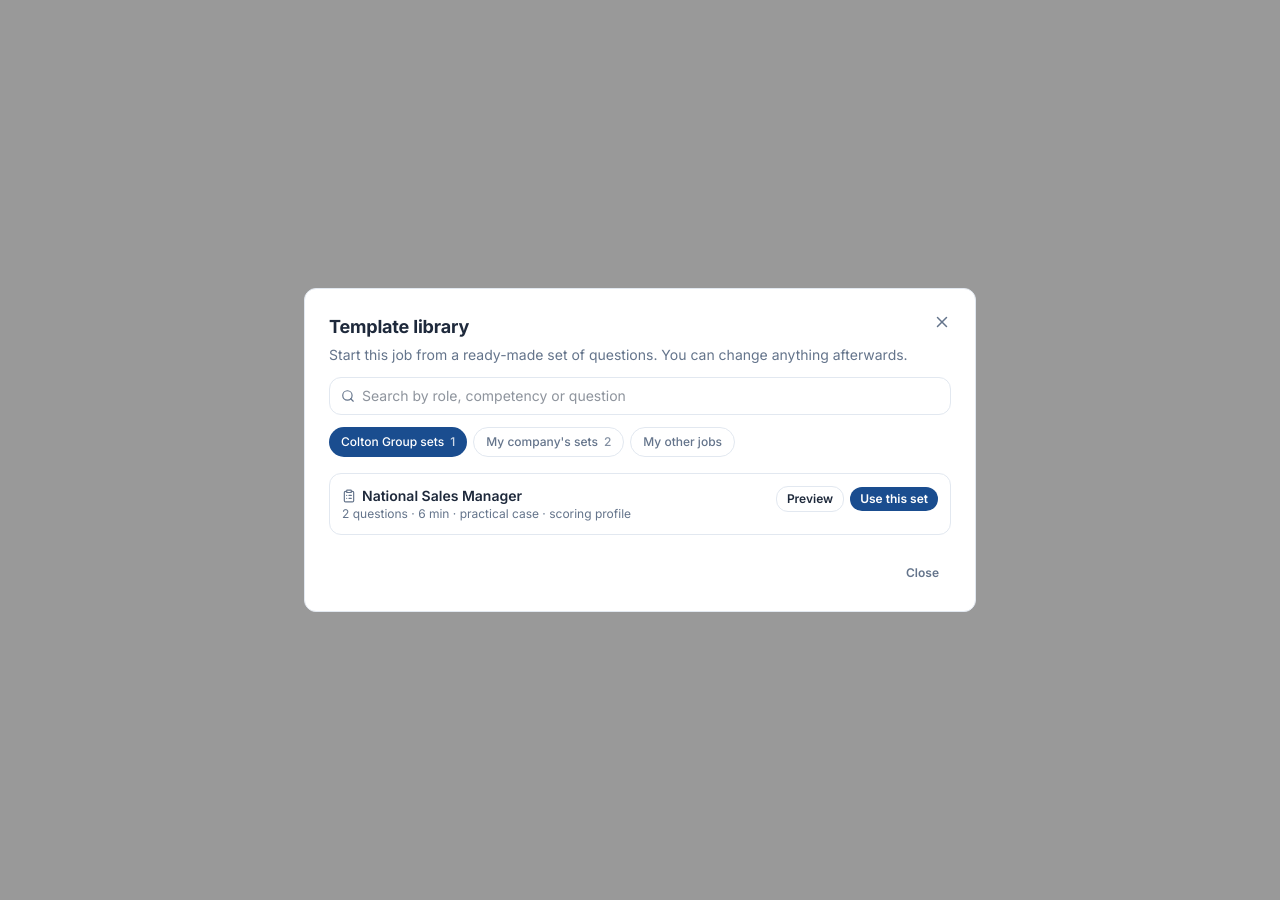
Scenario: QuestionLibraryModal › a company set › keeps the old name and says why when the new one is taken
Click the tab "My company's sets2" at (549, 442), box [473, 427, 624, 457]
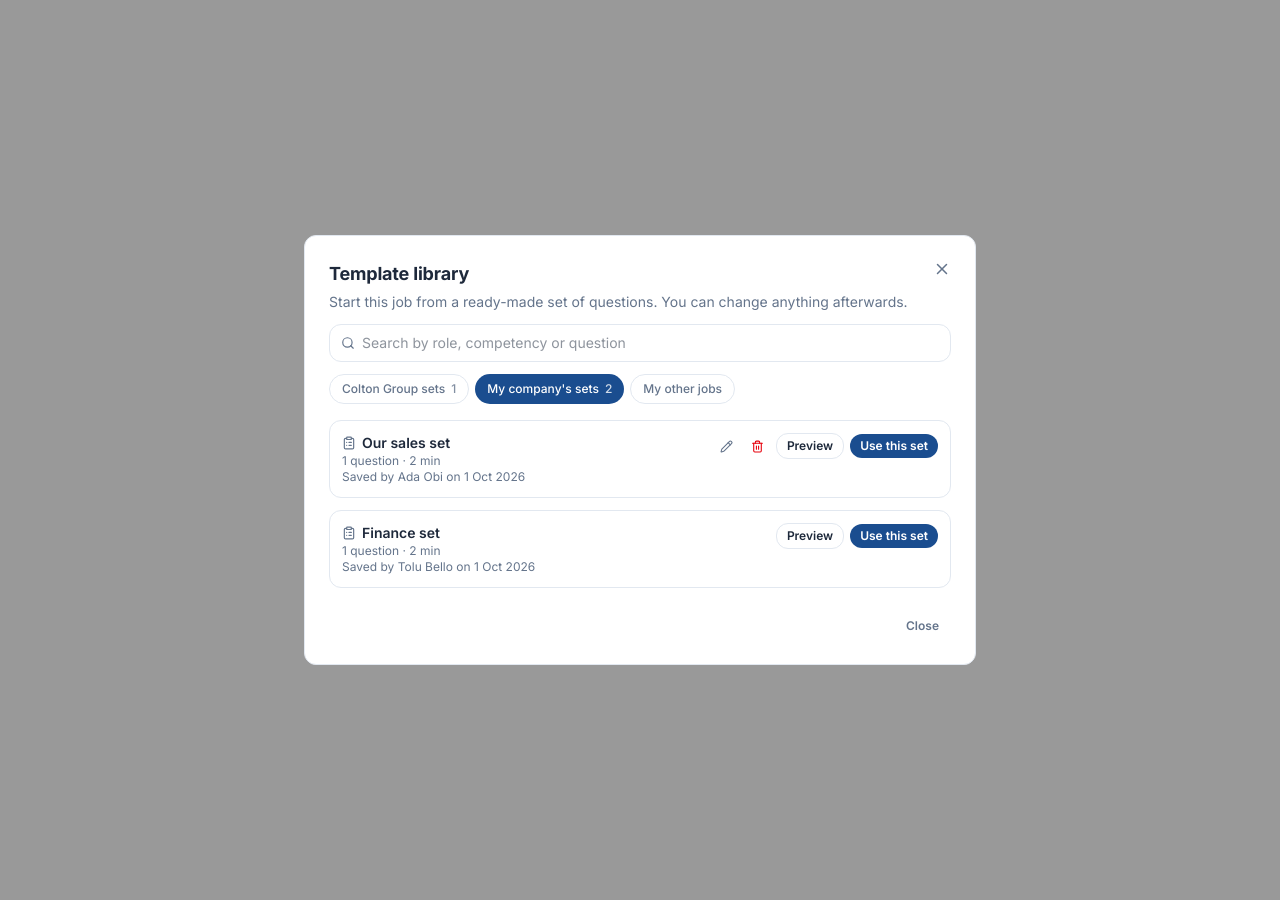
Click the button named "Rename Our sales set" at (726, 446), box [714, 434, 739, 458]
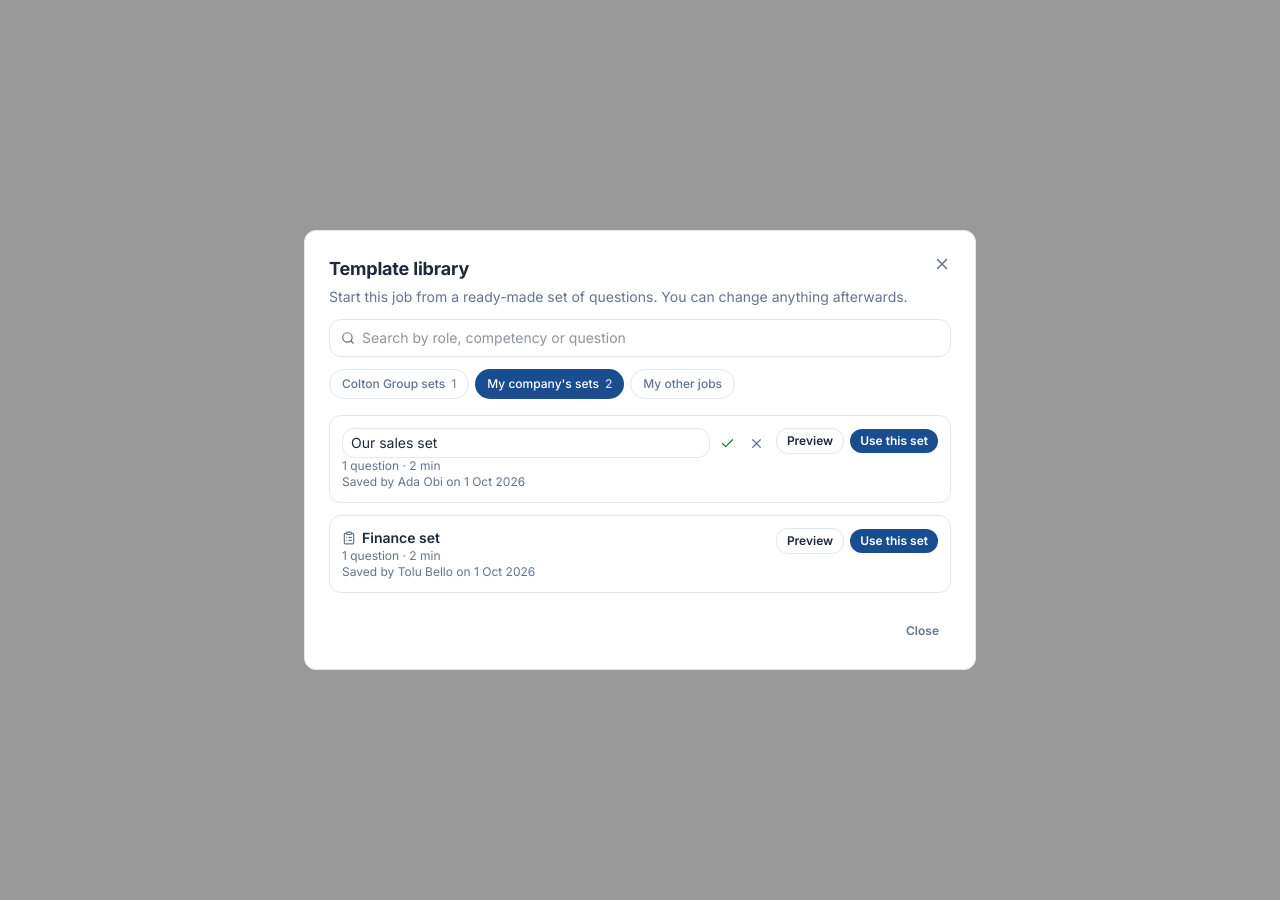
Replace the text in the field named "New name" with "Finance set" at (526, 443), box [342, 428, 710, 458]
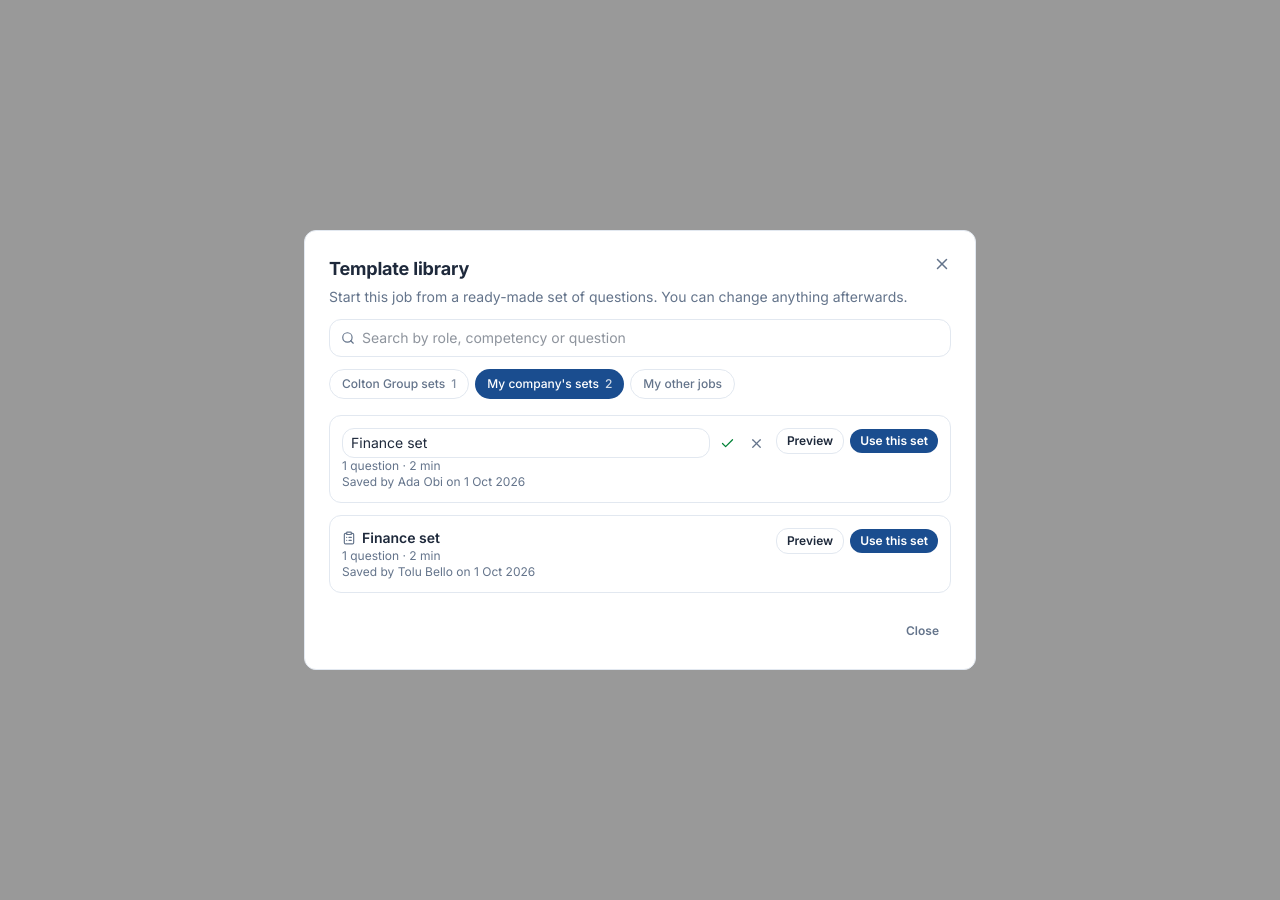
Click the button named "Save the new name" at (727, 443), box [716, 432, 739, 454]
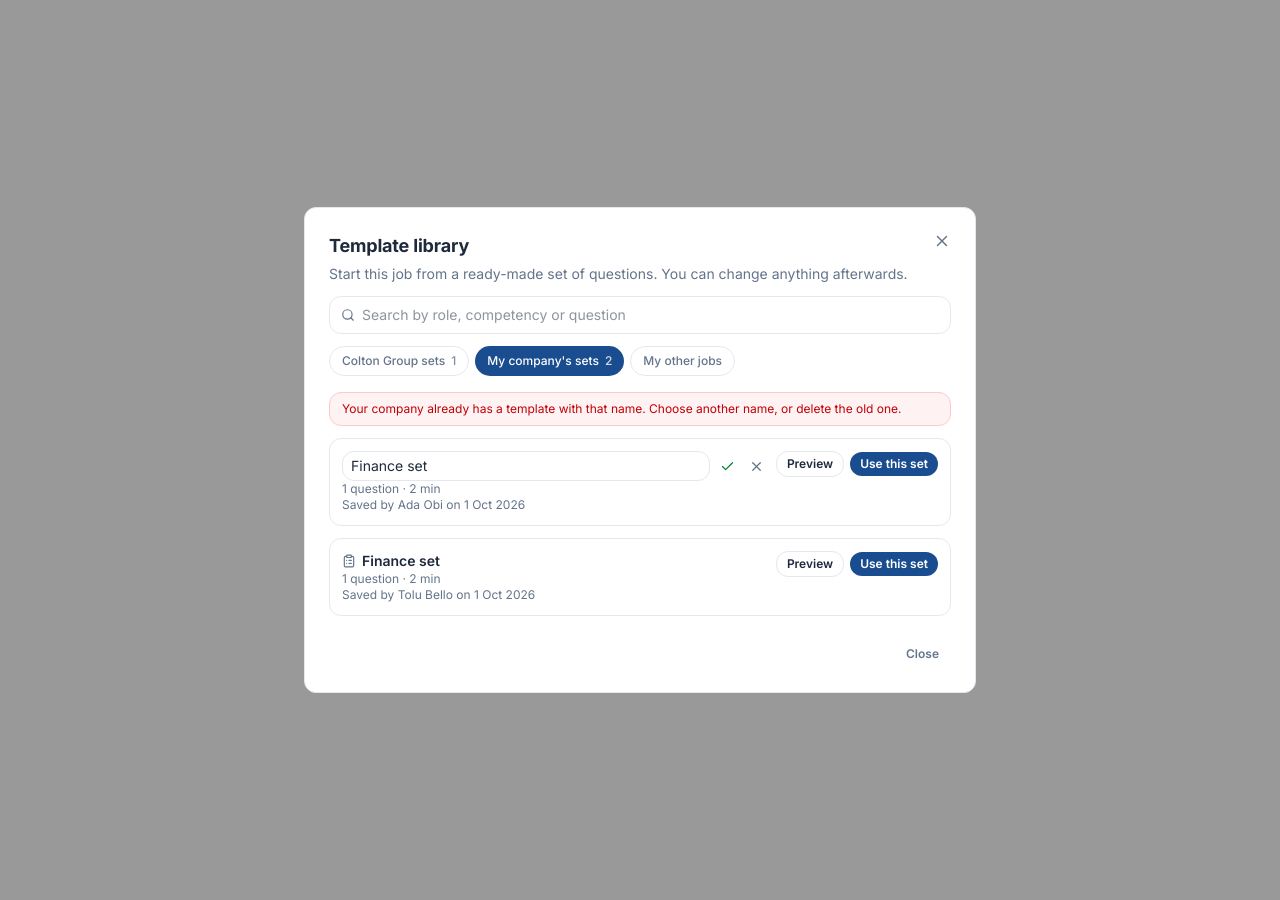
Expected: the message shows "already has a template with that name", [342, 401, 902, 416]
